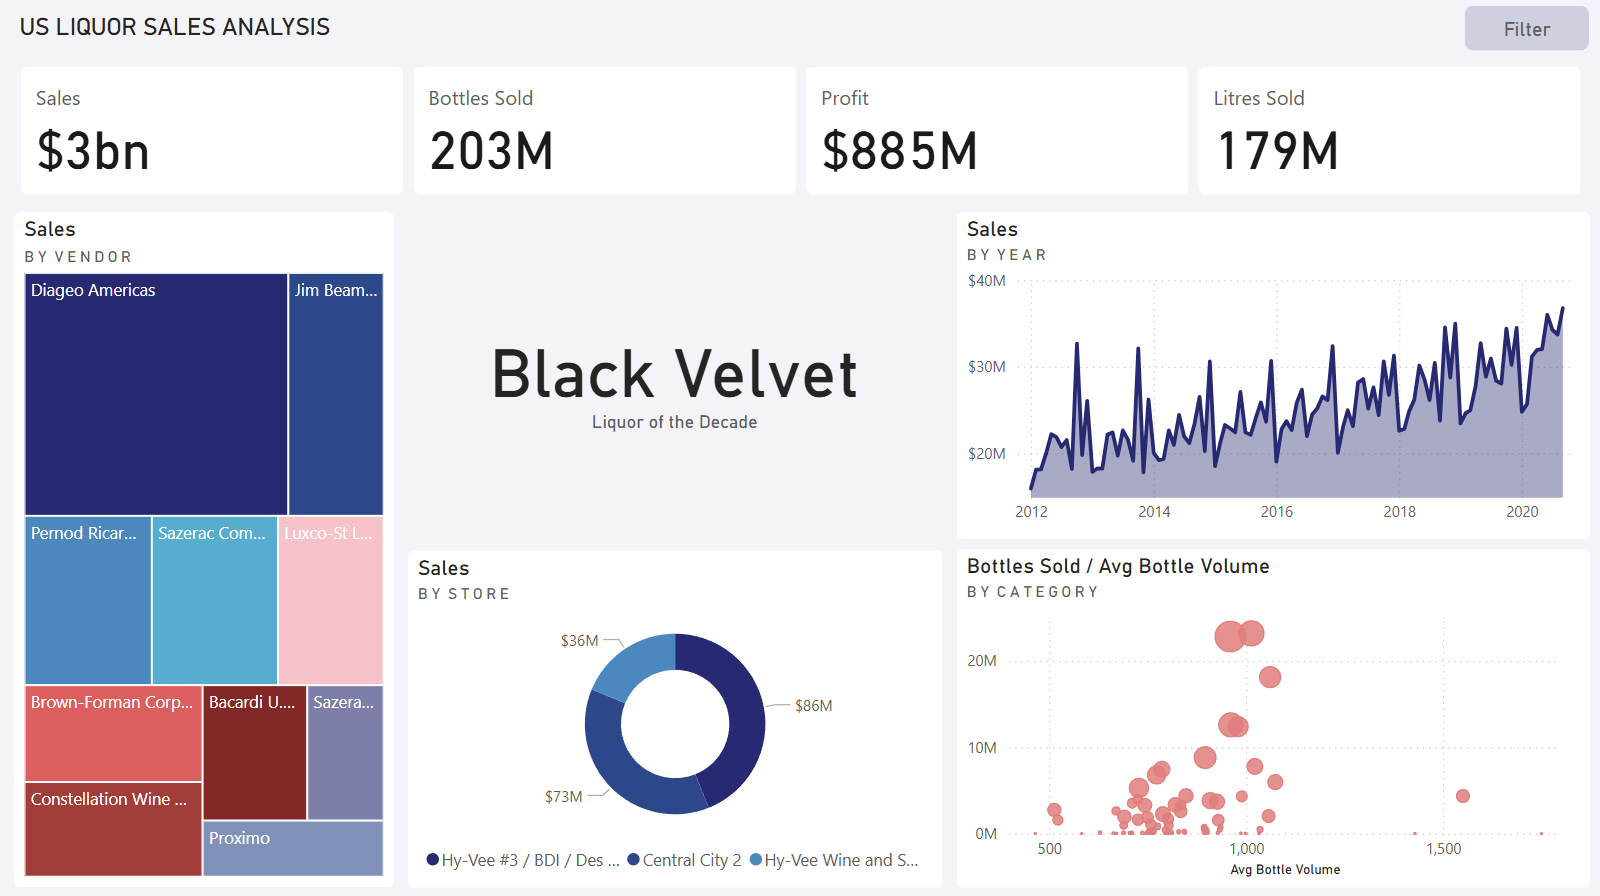

The dashboard page shown, as its layout file describes it:
{"tool":"powerbi","page":{"name":"Dashboard","canvas":[1280,720],"ordinal":0},"visuals":[{"type":"cardVisual","fields":{"Data":["MeasureTable.TotalSales","Sum(LIQUOR_SALES.BOTTLES_SOLD)","MeasureTable.TotalProfit","Sum(LIQUOR_SALES.VOLUME_SOLD_LITERS)"]},"box":[14,50,1255.8,112.8],"z":0},{"type":"textbox","title":"TtileBoc","box":[13.4,6.7,287,35.7],"z":1000},{"type":"actionButton","title":"FilterButton","box":[1170,6.2,100,36.2],"z":2000},{"type":"treemap","fields":{"Values":["MeasureTable.TotalSales"],"Group":["VENDOR_INFO.VENDOR_NAME"]},"box":[14,170.9,302.3,538.4],"z":3000},{"type":"areaChart","fields":{"Y":["MeasureTable.TotalSales"],"Category":["DATE_TABLE.DATE.Variation.Date Hierarchy.Year","DATE_TABLE.DATE.Variation.Date Hierarchy.Month"]},"box":[765.1,170.9,504.7,260.5],"z":4000},{"type":"donutChart","fields":{"Y":["MeasureTable.TotalSales"],"Category":["STORE_INFO.STORE_NAME"]},"box":[327.9,440.7,425.6,268.6],"z":5000},{"type":"scatterChart","title":"Bottles Sold / Avg Bottle Volume","fields":{"Category":["CATEGORY_INFO.CATEGORY_NAME"],"X":["Avg(LIQUOR_SALES.BOTTLE_VOLUME_ML)"],"Y":["Sum(LIQUOR_SALES.BOTTLES_SOLD)"],"Size":["MeasureTable.TotalProfit"]},"box":[765.1,439.5,504.7,269.8],"z":6000},{"type":"card","fields":{"Values":["MeasureTable.MostBougtItem"]},"box":[327.9,170.9,425.6,260.5],"z":7000}]}

Visuals, with their boxes in screenshot pixels (x1, y1, x2, y2), scaled from the page's 1280x720 canvas onto the 1600x896 screenshot:
cardVisual - MeasureTable.TotalSales x Sum(LIQUOR_SALES.BOTTLES_SOLD): (18, 62, 1587, 203)
"TtileBoc" textbox: (17, 8, 376, 53)
"FilterButton" actionButton: (1462, 8, 1588, 53)
treemap - MeasureTable.TotalSales x VENDOR_INFO.VENDOR_NAME: (18, 213, 395, 883)
areaChart - MeasureTable.TotalSales x DATE_TABLE.DATE.Variation.Date Hierarchy.Year: (956, 213, 1587, 537)
donutChart - MeasureTable.TotalSales x STORE_INFO.STORE_NAME: (410, 548, 942, 883)
"Bottles Sold / Avg Bottle Volume" scatterChart: (956, 547, 1587, 883)
card - MeasureTable.MostBougtItem: (410, 213, 942, 537)
